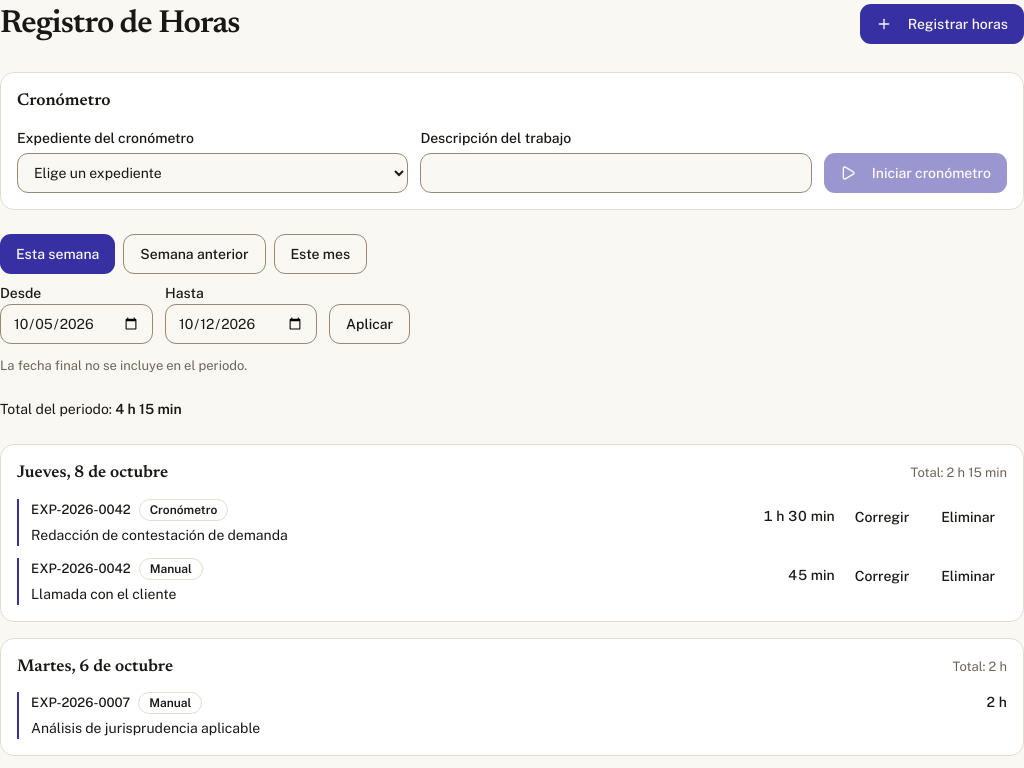
Test: TimesheetView › a custom range longer than 62 days is refused before anything is sent
The width and height of the screenshot is (1024, 768).
Check: the text "4 h 15 min" is shown, box [115,401,182,417]
Clear the date field labelled "Desde". click: (76, 324)
box: [0,304,153,344]
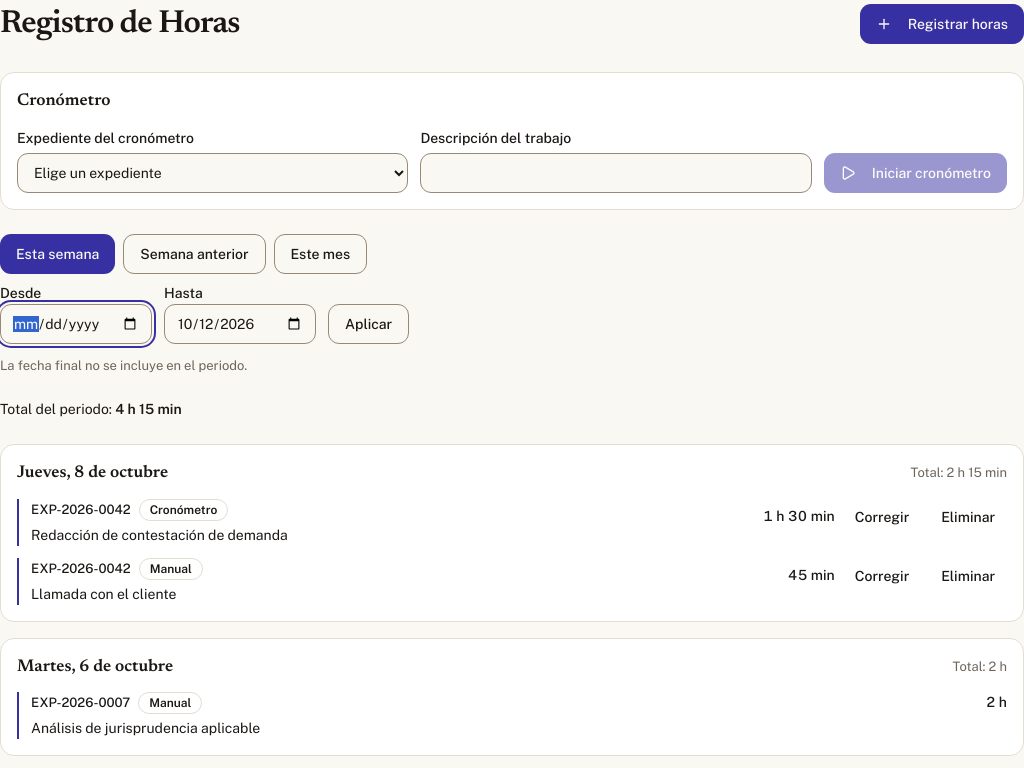
Type "2026-07-01" into the date field labelled "Desde". click: (76, 324)
box: [0,304,152,344]
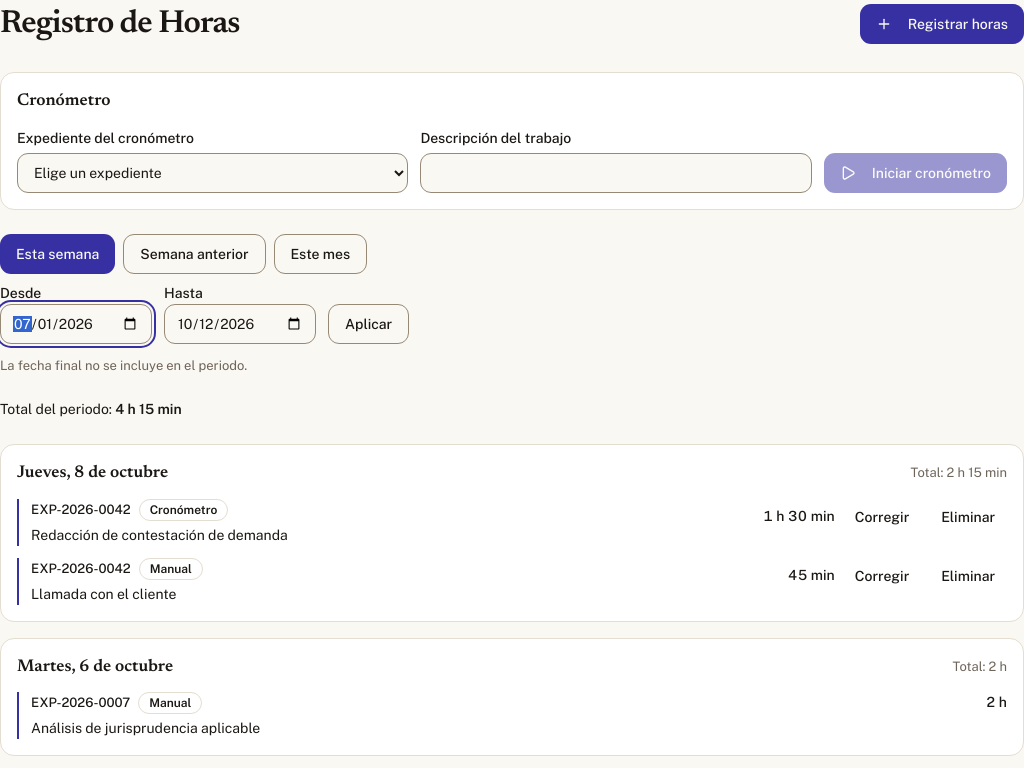
Type "2026-10-01" into the date field labelled "Hasta". click: (240, 324)
box: [164,304,316,344]
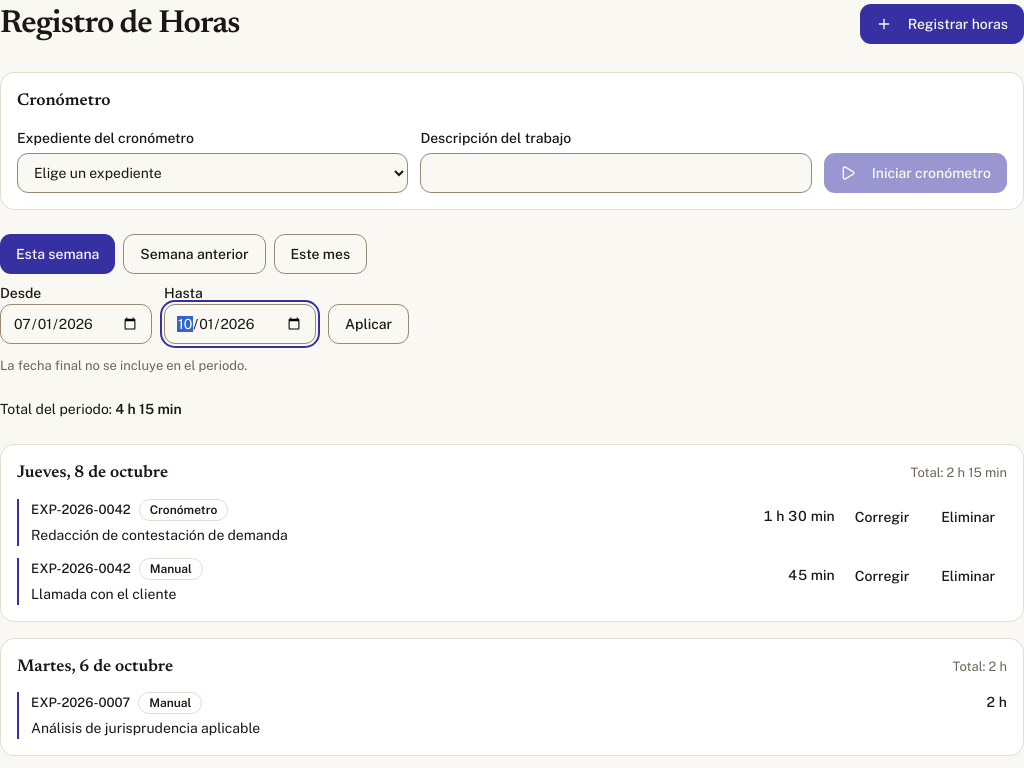
Click the button "Aplicar". click: (369, 324)
box: [328,304,409,344]
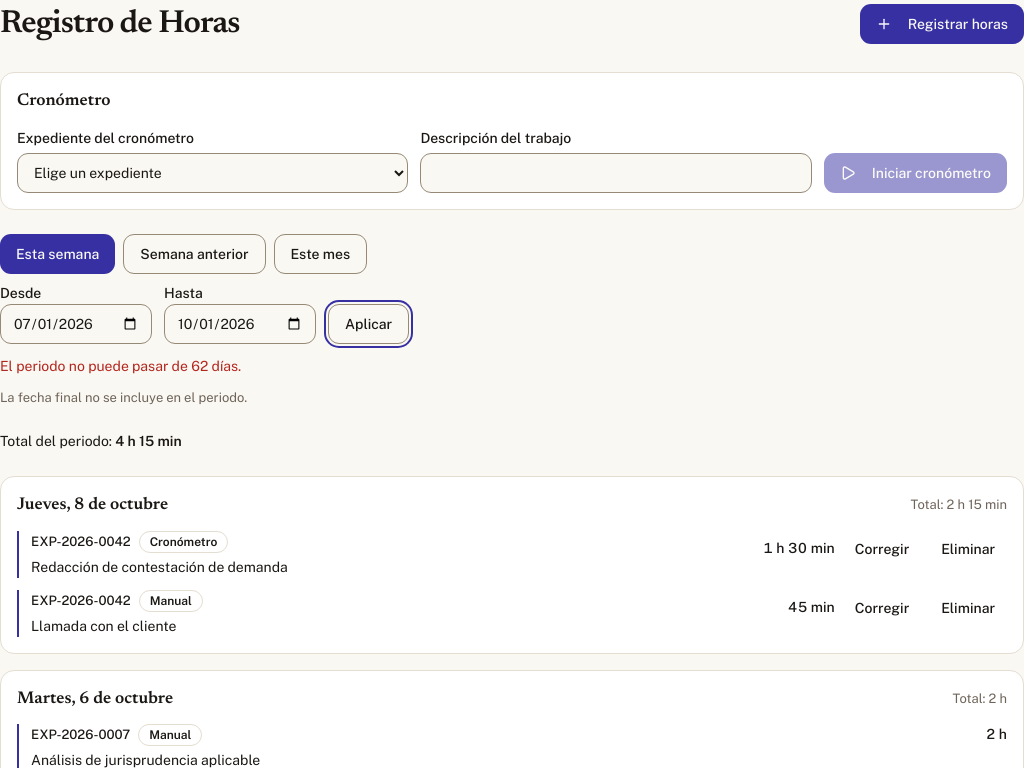
Check: the text "El periodo no puede pasar de 62 días." is shown, box [0,358,241,374]
